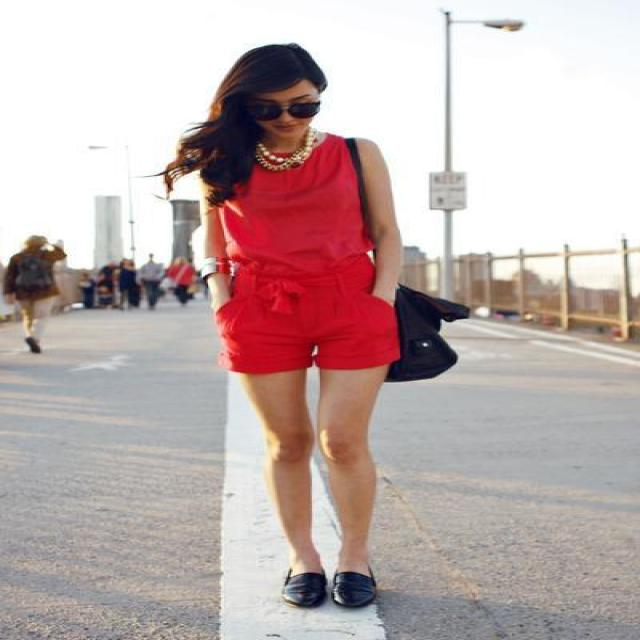bag: (325, 134, 469, 381)
dress: (216, 141, 398, 374)
shoe: (285, 570, 379, 612)
